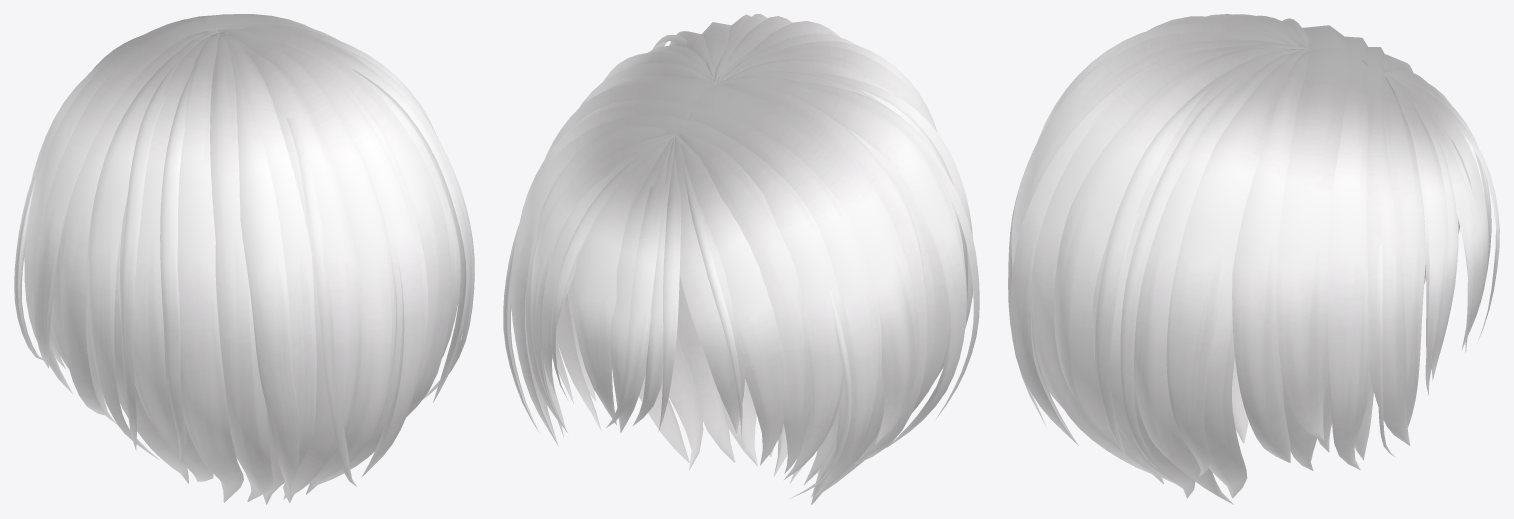
Rendered from Hair001.glb.
3 views of the same model, side by side, from view 1: azimuth 30°, elevation 25°; view 2: azimuth 150°, elevation 25°; view 3: azimuth 270°, elevation 25° (orthographic). The views are drawn at different scales.
Visible parts, largest first — view 1: Hair001; view 2: Hair001; view 3: Hair001.
Boxes of the visible parts, <box> form: Hair001: <box>14,14,474,504</box>; Hair001: <box>503,14,979,504</box>; Hair001: <box>1008,14,1499,504</box>.
Bounding box in the file's own units: 0.2262 × 0.2583 × 0.2554.
1 material, 1 textured.
